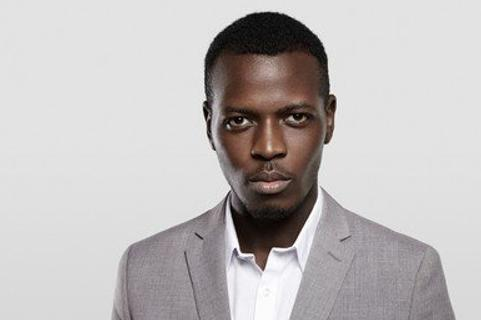Sober: (216, 53, 325, 208)
